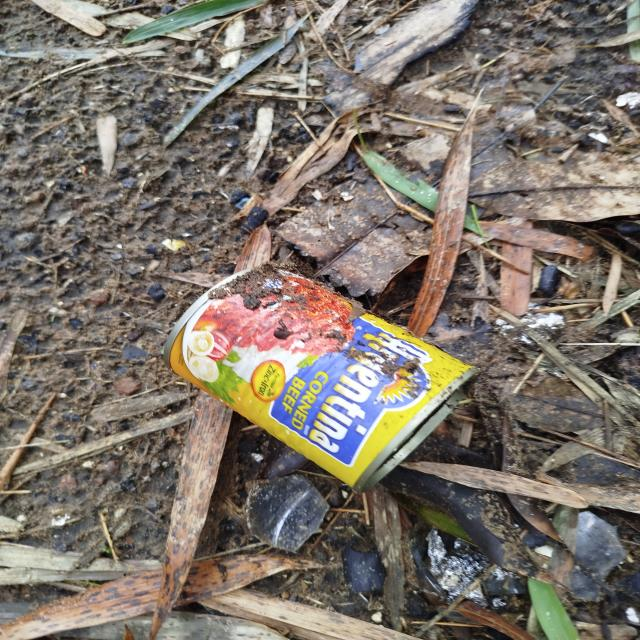metal: (150, 248, 498, 503)
